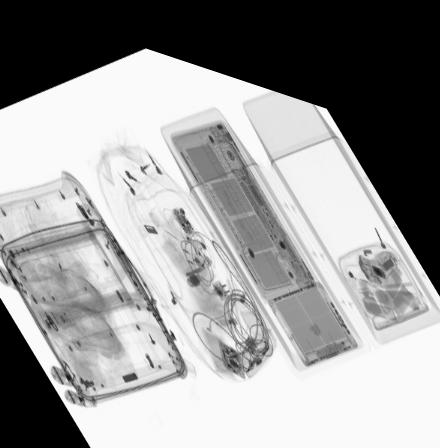Lighter: (197, 241, 212, 268)
